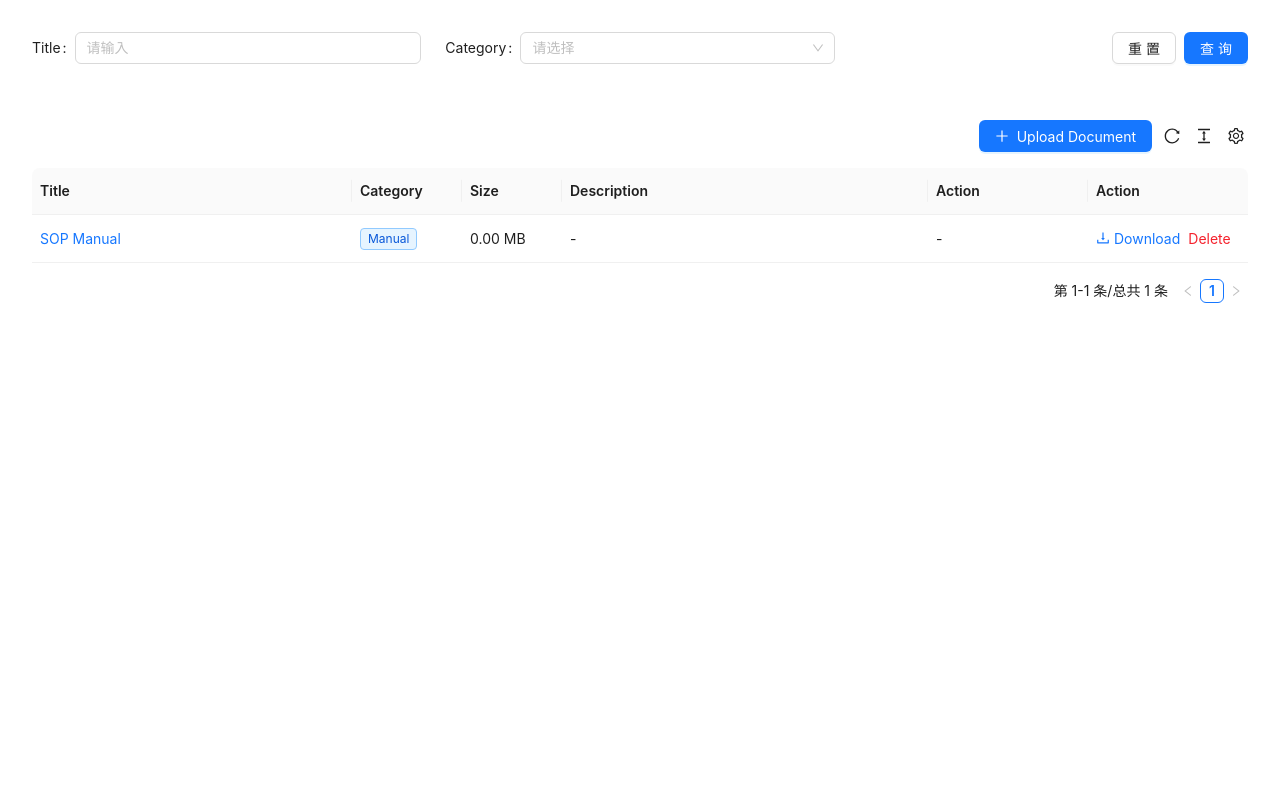
KnowledgeList buttons › Upload button opens modal
This screenshot has width=1280, height=800.
Click the button "Upload Document".
click(1065, 136)  # box left=979, top=120, right=1152, bottom=152
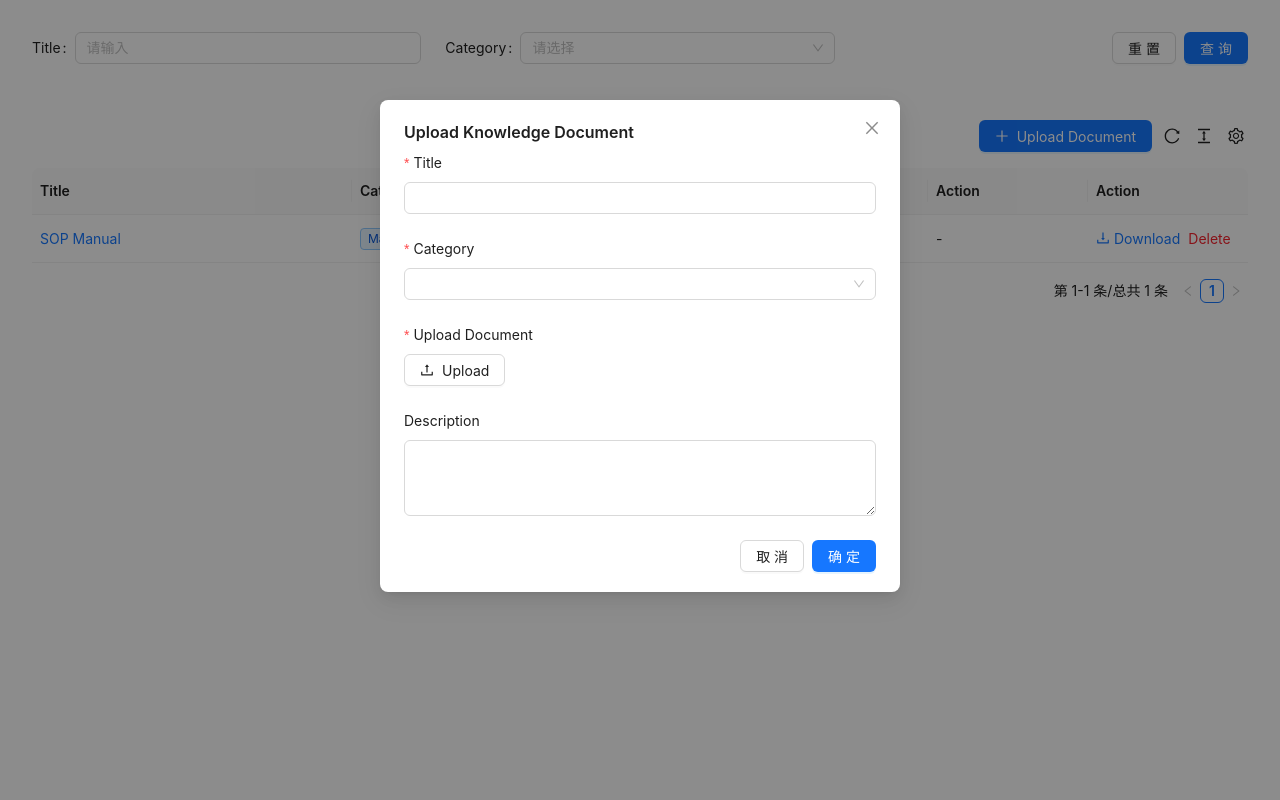
Result: the dialog shows "Upload Knowledge Document" at left=404, top=122, right=634, bottom=142
